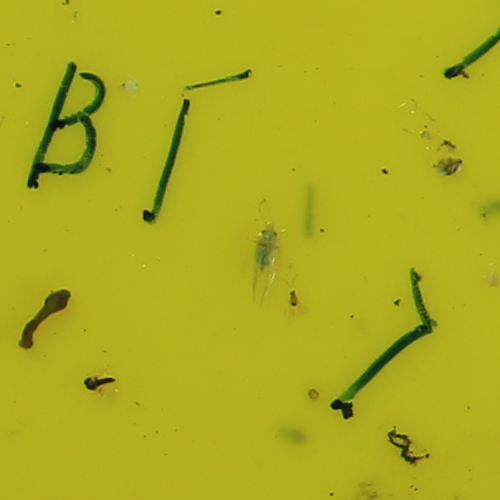psylla: (249, 218, 284, 270)
